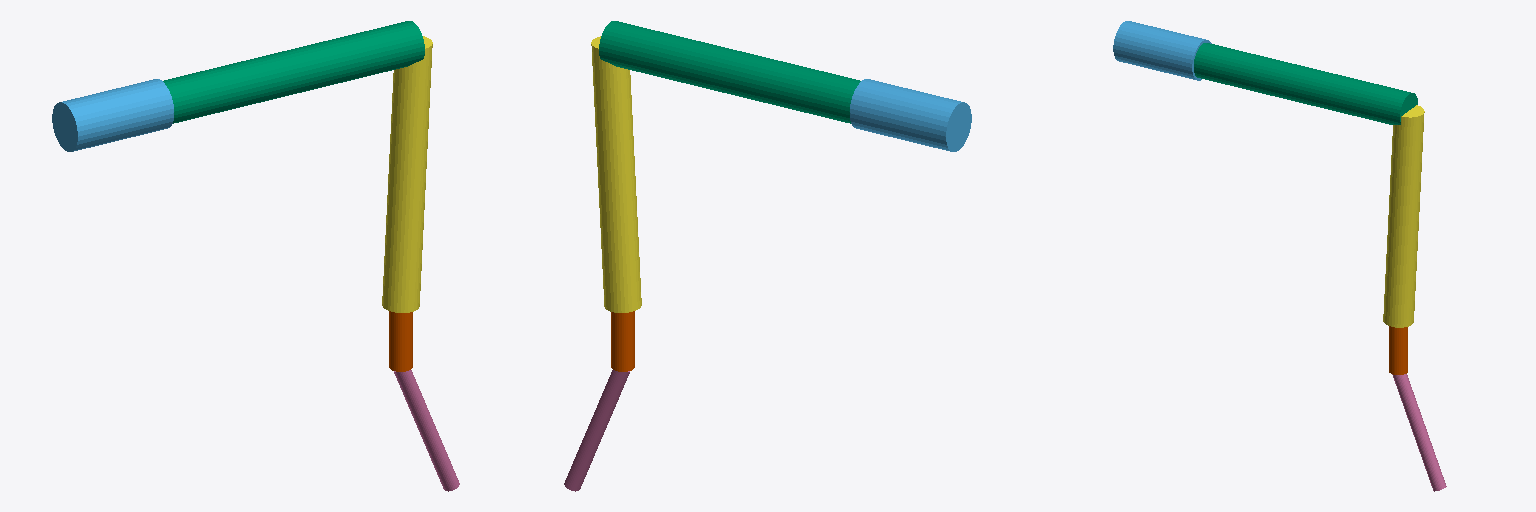
robot.urdf — kuka_kr_16_2:
<?xml version="1.0"?>
<!--
  KUKA KR 16-2
  GENERATED by weldforge.kin.urdf from data/robots/. Do not edit by
  hand: regenerate instead, or the URDF and the planner's kinematics
  will drift apart.

  Link inertias are placeholders (uniform boxes). Replace them with
  manufacturer data before using this model for dynamics.
-->
<robot name="kuka_kr_16_2">

  <link name="base_link">
    <inertial>
      <origin xyz="0 0 0" rpy="0 0 0"/>
      <mass value="50.0000"/>
      <inertia ixx="0.750000" ixy="0" ixz="0" iyy="0.750000" iyz="0" izz="0.750000"/>
    </inertial>
  </link>

  <joint name="joint_1" type="revolute">
    <parent link="base_link"/>
    <child link="link_1"/>
    <origin xyz="0.000000000 -0.000000000 0.675000000" rpy="0.000000000 -0.000000000 0.000000000"/>
    <axis xyz="0 0 1"/>
    <limit lower="-3.228859116" upper="3.228859116" effort="1000" velocity="2.722714"/>
    <dynamics damping="0.5" friction="0.1"/>
  </joint>

  <link name="link_1">
    <inertial>
      <origin xyz="0 0 0" rpy="0 0 0"/>
      <mass value="40.0000"/>
      <inertia ixx="0.450667" ixy="0" ixz="0" iyy="0.450667" iyz="0" izz="0.450667"/>
    </inertial>
    <visual>
      <origin xyz="0.130000000 0.000000000 0.000000000" rpy="-0.000000000 1.570796327 0.000000000"/>
      <geometry><cylinder radius="0.0600" length="0.2600"/></geometry>
    </visual>
    <collision>
      <origin xyz="0.130000000 0.000000000 0.000000000" rpy="-0.000000000 1.570796327 0.000000000"/>
      <geometry><cylinder radius="0.0600" length="0.2600"/></geometry>
    </collision>
  </link>

  <joint name="joint_2" type="revolute">
    <parent link="link_1"/>
    <child link="link_2"/>
    <origin xyz="0.260000000 0.000000000 0.000000000" rpy="-1.570796327 0.000000000 0.000000000"/>
    <axis xyz="0 0 1"/>
    <limit lower="-2.705260341" upper="0.610865238" effort="1000" velocity="2.722714"/>
    <dynamics damping="0.5" friction="0.1"/>
  </joint>

  <link name="link_2">
    <inertial>
      <origin xyz="0 0 0" rpy="0 0 0"/>
      <mass value="35.0000"/>
      <inertia ixx="2.697333" ixy="0" ixz="0" iyy="2.697333" iyz="0" izz="2.697333"/>
    </inertial>
    <visual>
      <origin xyz="0.340000000 -0.000000000 0.000000000" rpy="-0.000000000 1.570796327 0.000000000"/>
      <geometry><cylinder radius="0.0520" length="0.6800"/></geometry>
    </visual>
    <collision>
      <origin xyz="0.340000000 -0.000000000 0.000000000" rpy="-0.000000000 1.570796327 0.000000000"/>
      <geometry><cylinder radius="0.0520" length="0.6800"/></geometry>
    </collision>
  </link>

  <joint name="joint_3" type="revolute">
    <parent link="link_2"/>
    <child link="link_3"/>
    <origin xyz="0.680000000 -0.000000000 0.000000000" rpy="0.000000000 -0.000000000 0.000000000"/>
    <axis xyz="0 0 1"/>
    <limit lower="-2.268928028" upper="2.687807048" effort="1000" velocity="2.722714"/>
    <dynamics damping="0.5" friction="0.1"/>
  </joint>

  <link name="link_3">
    <inertial>
      <origin xyz="0 0 0" rpy="0 0 0"/>
      <mass value="30.0000"/>
      <inertia ixx="2.250625" ixy="0" ixz="0" iyy="2.250625" iyz="0" izz="2.250625"/>
    </inertial>
    <visual>
      <origin xyz="-0.017500000 0.335000000 0.000000000" rpy="-1.570796327 -0.052191366 0.052191366"/>
      <geometry><cylinder radius="0.0440" length="0.6709"/></geometry>
    </visual>
    <collision>
      <origin xyz="-0.017500000 0.335000000 0.000000000" rpy="-1.570796327 -0.052191366 0.052191366"/>
      <geometry><cylinder radius="0.0440" length="0.6709"/></geometry>
    </collision>
  </link>

  <joint name="joint_4" type="revolute">
    <parent link="link_3"/>
    <child link="link_4"/>
    <origin xyz="-0.035000000 0.670000000 0.000000000" rpy="-1.570796327 0.000000000 0.000000000"/>
    <axis xyz="0 0 1"/>
    <limit lower="-6.108652382" upper="6.108652382" effort="1000" velocity="5.759587"/>
    <dynamics damping="0.5" friction="0.1"/>
  </joint>

  <link name="link_4">
    <inertial>
      <origin xyz="0 0 0" rpy="0 0 0"/>
      <mass value="25.0000"/>
      <inertia ixx="0.010417" ixy="0" ixz="0" iyy="0.010417" iyz="0" izz="0.010417"/>
    </inertial>
  </link>

  <joint name="joint_5" type="revolute">
    <parent link="link_4"/>
    <child link="link_5"/>
    <origin xyz="0.000000000 -0.000000000 0.000000000" rpy="1.570796327 -0.000000000 0.000000000"/>
    <axis xyz="0 0 1"/>
    <limit lower="-2.268928028" upper="2.268928028" effort="1000" velocity="5.759587"/>
    <dynamics damping="0.5" friction="0.1"/>
  </joint>

  <link name="link_5">
    <inertial>
      <origin xyz="0 0 0" rpy="0 0 0"/>
      <mass value="20.0000"/>
      <inertia ixx="0.083213" ixy="0" ixz="0" iyy="0.083213" iyz="0" izz="0.083213"/>
    </inertial>
    <visual>
      <origin xyz="0.000000000 0.079000000 0.000000000" rpy="-1.570796327 -0.000000000 0.000000000"/>
      <geometry><cylinder radius="0.0280" length="0.1580"/></geometry>
    </visual>
    <collision>
      <origin xyz="0.000000000 0.079000000 0.000000000" rpy="-1.570796327 -0.000000000 0.000000000"/>
      <geometry><cylinder radius="0.0280" length="0.1580"/></geometry>
    </collision>
  </link>

  <joint name="joint_6" type="revolute">
    <parent link="link_5"/>
    <child link="link_6"/>
    <origin xyz="0.000000000 0.158000000 0.000000000" rpy="-1.570796327 0.000000000 0.000000000"/>
    <axis xyz="0 0 1"/>
    <limit lower="-6.108652382" upper="6.108652382" effort="1000" velocity="10.733775"/>
    <dynamics damping="0.5" friction="0.1"/>
  </joint>

  <link name="link_6">
    <inertial>
      <origin xyz="0 0 0" rpy="0 0 0"/>
      <mass value="15.0000"/>
      <inertia ixx="0.333062" ixy="0" ixz="0" iyy="0.333062" iyz="0" izz="0.333062"/>
    </inertial>
    <visual>
      <origin xyz="0.068365703 0.000000000 0.169211053" rpy="0.000000000 0.383972435 0.000000000"/>
      <geometry><cylinder radius="0.0200" length="0.3650"/></geometry>
    </visual>
    <collision>
      <origin xyz="0.068365703 0.000000000 0.169211053" rpy="0.000000000 0.383972435 0.000000000"/>
      <geometry><cylinder radius="0.0200" length="0.3650"/></geometry>
    </collision>
  </link>

  <joint name="joint_tool" type="fixed">
    <parent link="link_6"/>
    <child link="torch_tip"/>
    <origin xyz="0.136731407 0.000000000 0.338422107" rpy="0.000000000 0.383972435 0.000000000"/>
  </joint>

  <link name="torch_tip">
    <inertial>
      <origin xyz="0 0 0" rpy="0 0 0"/>
      <mass value="2.0000"/>
      <inertia ixx="0.000833" ixy="0" ixz="0" iyy="0.000833" iyz="0" izz="0.000833"/>
    </inertial>
  </link>

</robot>

--- What the picture shows (computed from the rendered views, not written in the file) ---
Views: 3 orthographic renders of the robot side by side, from view 1: azimuth 30°, elevation 25°; view 2: azimuth 150°, elevation 25°; view 3: azimuth 330°, elevation 25°.
Model kuka_kr_16_2 with 8 links and 7 joints (6 revolute, 1 fixed), rooted at base_link, posed all joints at 0.
Links seen in each view (by area): view 1: link_2, link_3, link_1, link_6, link_5; view 2: link_2, link_3, link_1, link_6, link_5; view 3: link_2, link_3, link_1, link_6, link_5.
Link boxes in pixels (x1,y1,x2,y2): link_2: (163, 21, 424, 123); link_3: (382, 36, 432, 312); link_1: (52, 79, 173, 151); link_6: (394, 370, 459, 491); link_5: (389, 311, 412, 371); link_2: (599, 21, 860, 123); link_3: (591, 36, 641, 312); link_1: (850, 79, 971, 151); link_6: (564, 370, 629, 491); link_5: (611, 311, 634, 371); link_2: (1194, 43, 1417, 124); link_3: (1383, 105, 1424, 327); link_1: (1113, 21, 1211, 80); link_6: (1392, 374, 1446, 491); link_5: (1389, 326, 1407, 374).
Size in the robot's own frame: 1.06 by 0.12 by 1.23 metres.
Geometry: primitives only (box / cylinder / sphere), no mesh files.
